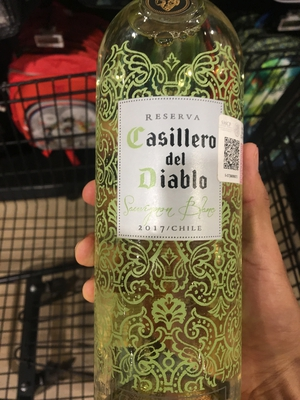casillero del diablo sauvignon blanc: (76, 4, 272, 400)
